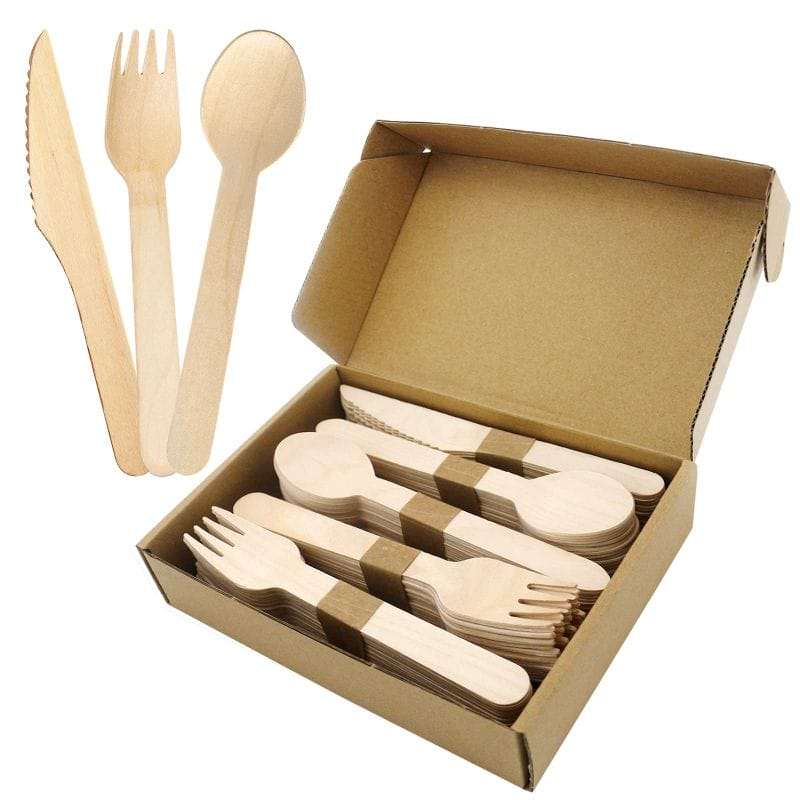Wooden Utensils: (19, 23, 302, 511), (205, 379, 601, 711)
